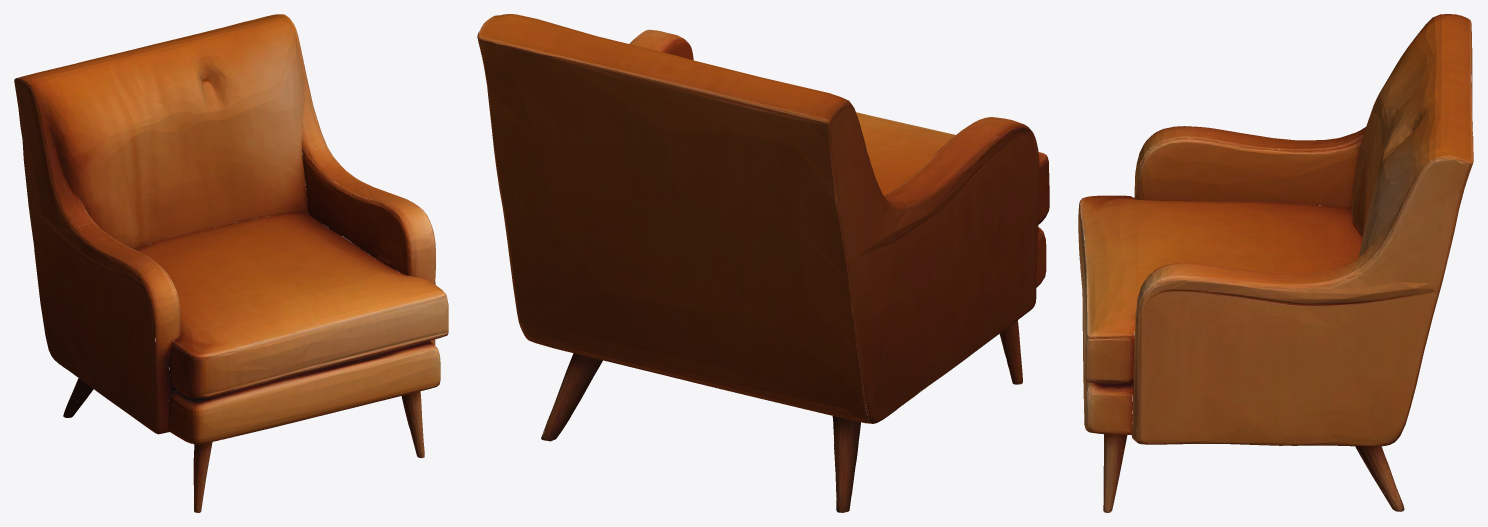
File: chair.glb
The picture shows the model from 3 angles, left to right: view 1: azimuth 30°, elevation 25°; view 2: azimuth 150°, elevation 25°; view 3: azimuth 270°, elevation 25°; orthographic projection. The views are drawn at different scales.
Parts seen in each view (by area): view 1: geometry_0; view 2: geometry_0; view 3: geometry_0.
Boxes of the visible parts, x1,y1,x2,y2 form: geometry_0: (14,14,448,512); geometry_0: (477,14,1049,512); geometry_0: (1078,14,1473,512).
Size of the model in its own units: 0.9016 by 0.9972 by 0.9734.
1 material, 1 textured.
